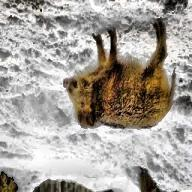boar: (62, 18, 175, 130)
